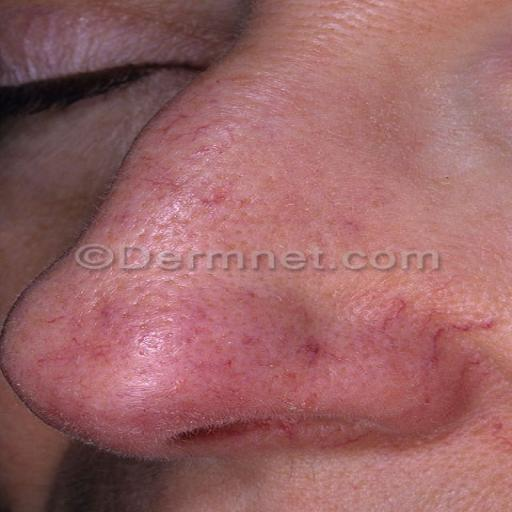Skin_Lesion: (104, 353, 195, 404), (442, 360, 488, 416), (196, 271, 229, 329), (162, 190, 268, 207), (242, 271, 275, 325), (382, 284, 416, 323), (296, 328, 326, 368), (422, 329, 447, 371), (491, 415, 512, 453), (471, 311, 497, 339), (85, 288, 112, 314), (223, 353, 247, 373)
